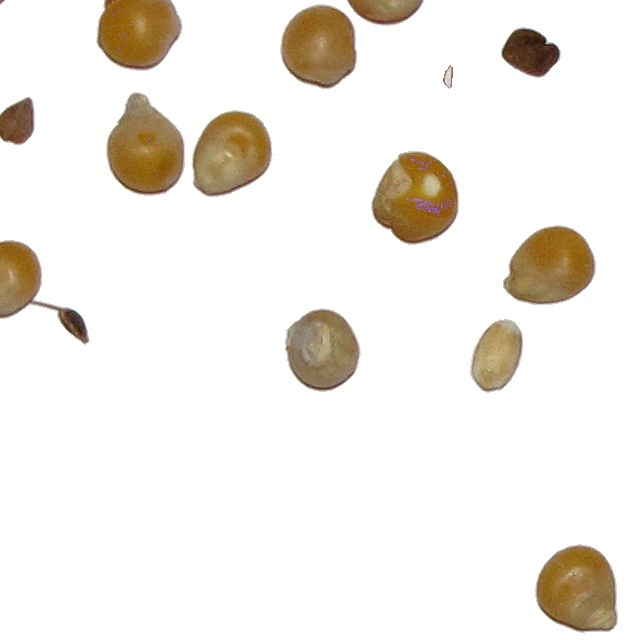buckwheat: (500, 26, 562, 79)
dill: (442, 64, 454, 90)
mais: (370, 150, 460, 246), (105, 91, 186, 197), (502, 224, 597, 306), (534, 543, 619, 634), (190, 109, 274, 198), (279, 3, 358, 90), (284, 307, 362, 393)
other: (469, 318, 524, 394)
